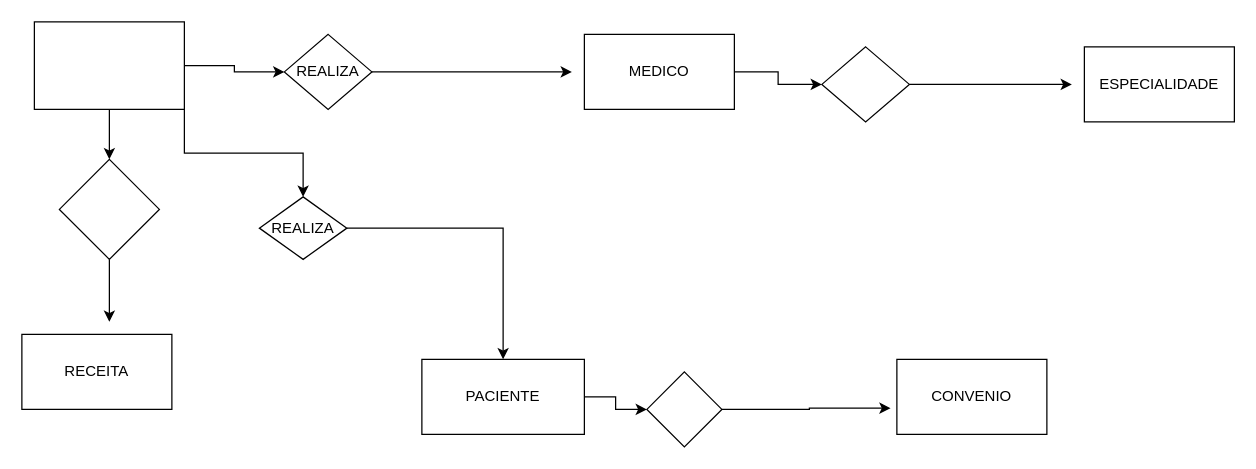
Image size: 1256x469. Some labels were removed from this diagram. Here are the shapes that lost their labels. From the top down, the centre of each, then its label:
At point 108,65: "CONSULTA".
At point 865,84: "POSSUI".
At point 108,208: "ENCERRAMENTO".
At point 684,409: "CONTRATA".
